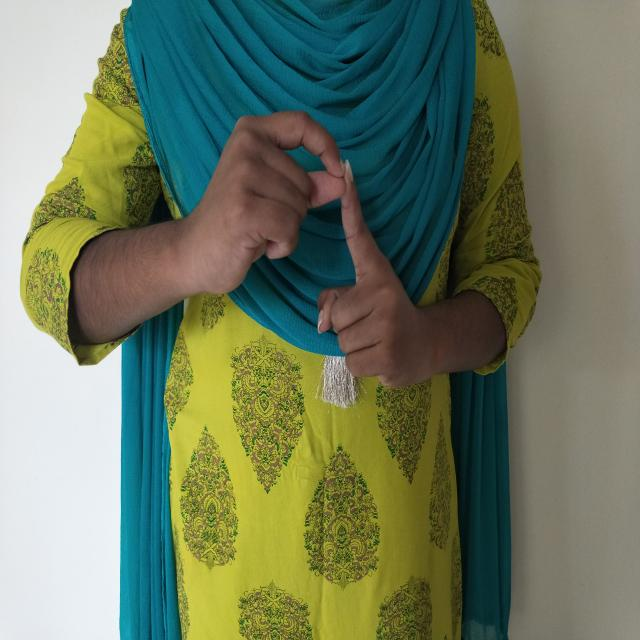P: (167, 96, 449, 413)
